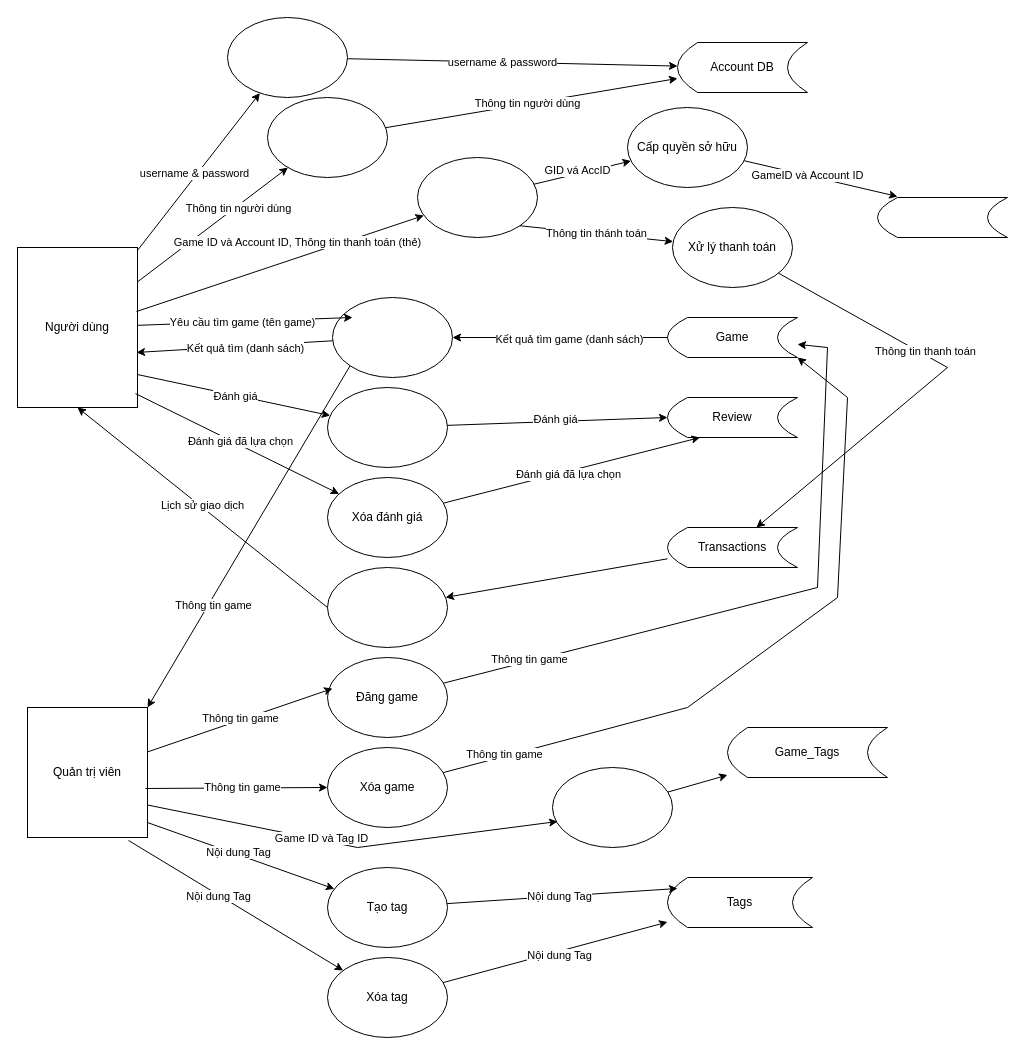
Image size: 1025x1055. Some labels were removed from this diagram. The shapes that lost their labels are listed below. From the top down, each one's centre as x and y in pixels, then its label:
(x=287, y=57): Đăng nhập
(x=327, y=137): Đăng ký
(x=477, y=197): Mua game
(x=942, y=217): Game_owned
(x=392, y=337): Tìm kiếm game
(x=387, y=427): Tạo đánh giá
(x=387, y=607): Xem lịch sử giao dịch
(x=612, y=807): Gắn tag vào game
